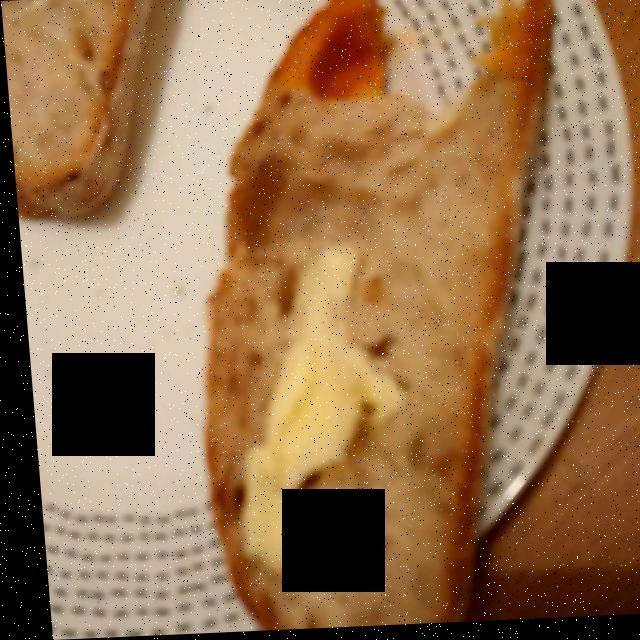bread: (197, 1, 544, 613)
butter: (246, 257, 374, 566)
